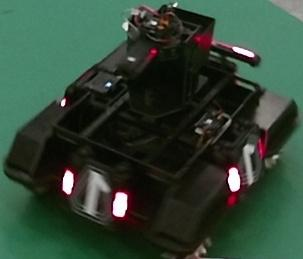armor_1: (63, 170, 128, 217)
front_1: (73, 165, 115, 225)
left_1: (239, 133, 262, 186)
